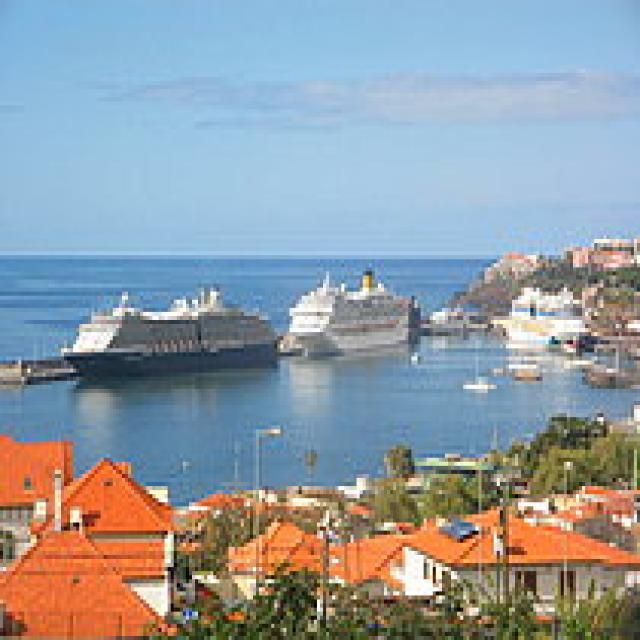Cruise: (55, 279, 280, 376), (286, 264, 412, 356)
